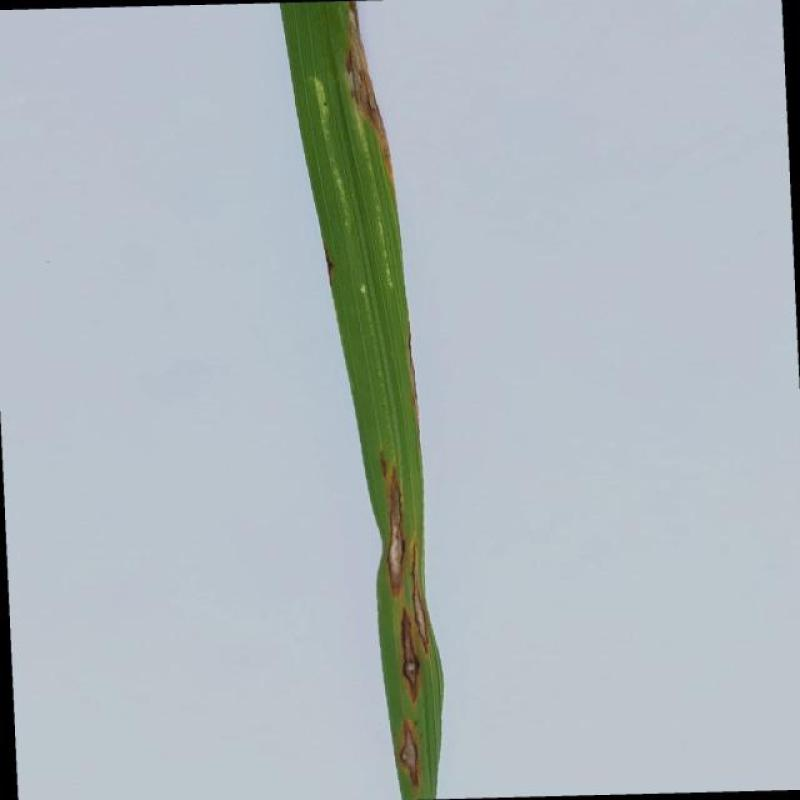Leaf_Blast: (340, 3, 394, 185), (386, 466, 409, 599), (407, 542, 432, 652), (399, 606, 420, 706), (396, 720, 424, 790)
